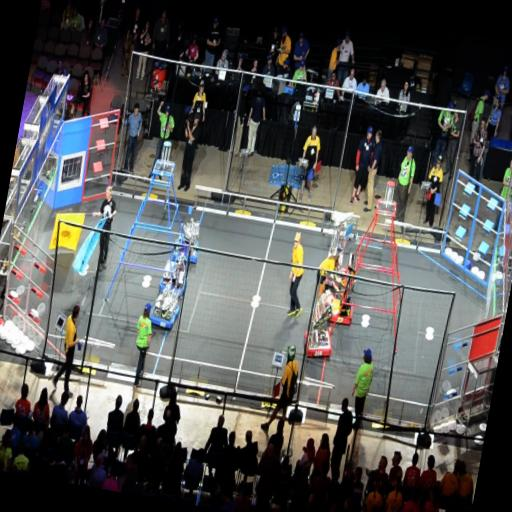robot: (316, 208, 362, 290), (318, 248, 364, 328), (300, 289, 344, 363), (144, 274, 186, 333), (168, 215, 206, 265), (156, 250, 192, 292)
